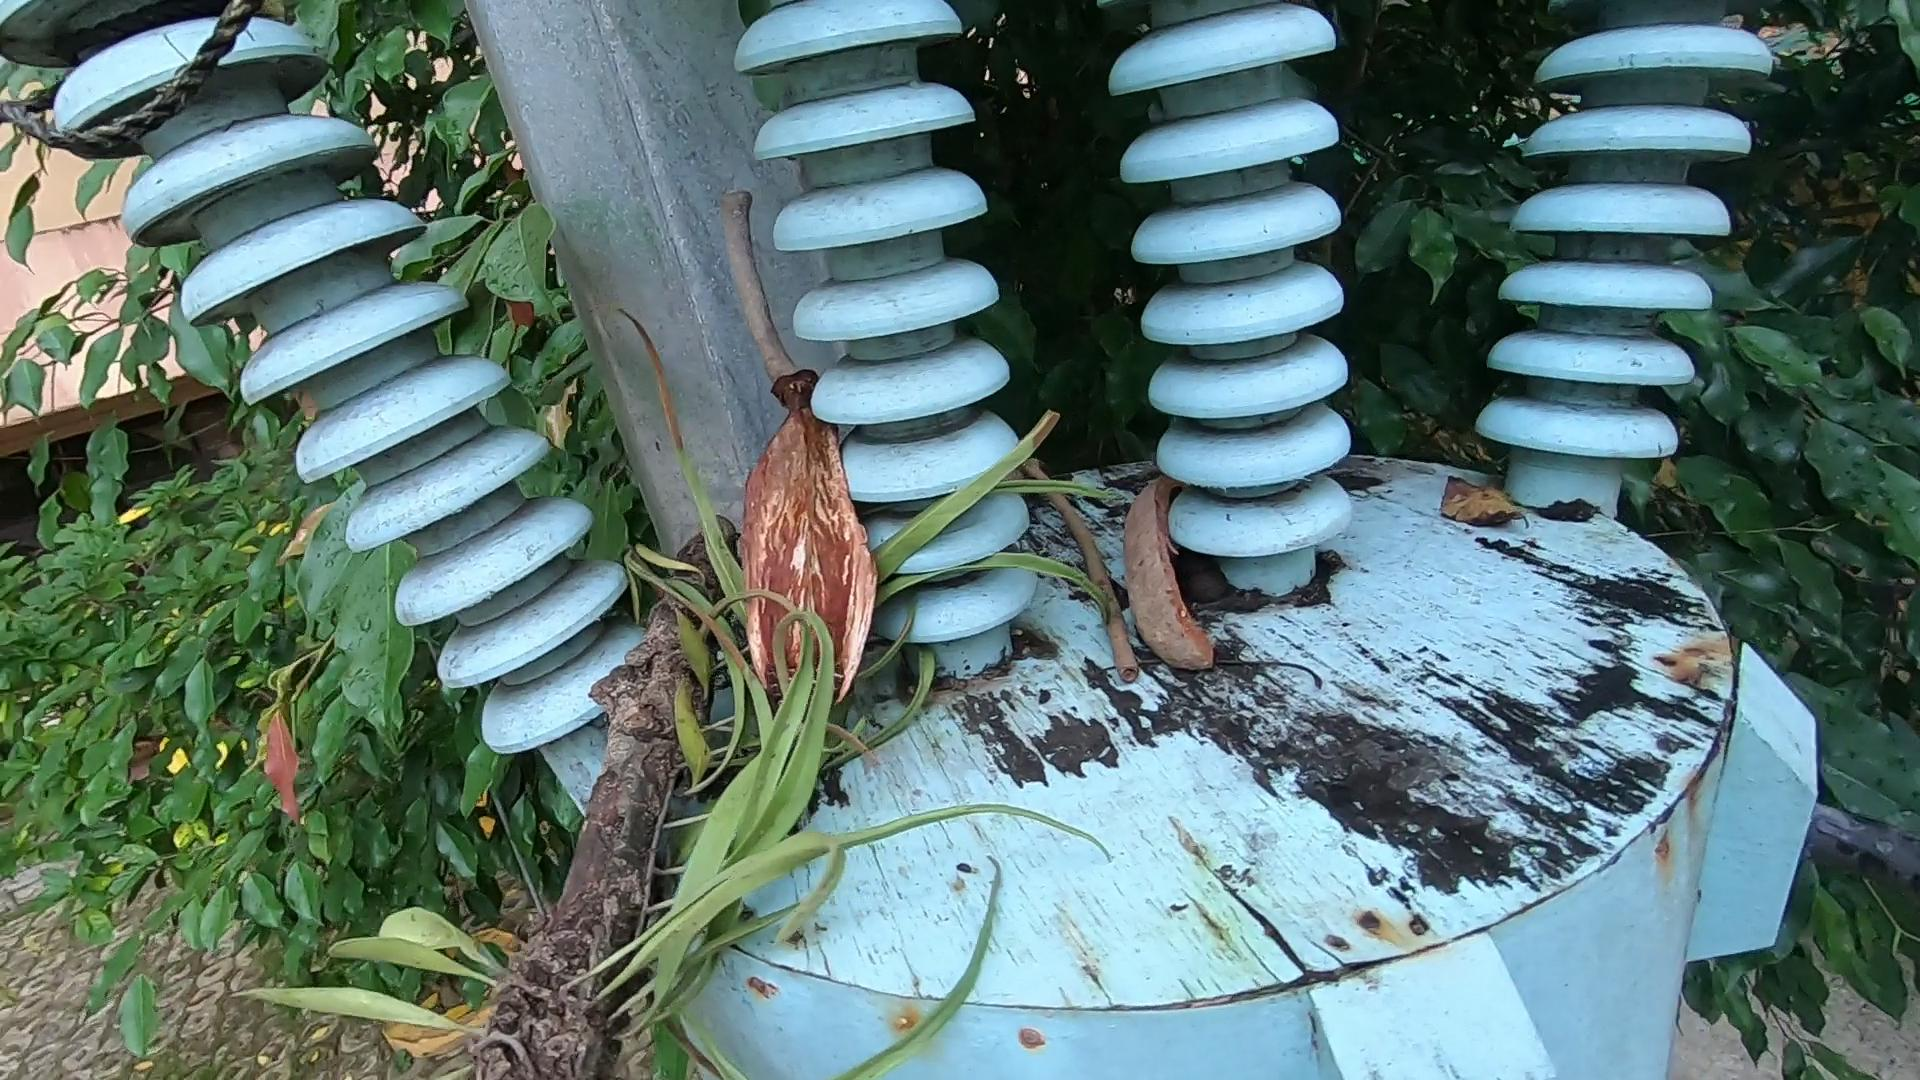branch with leaves: (393, 480, 971, 1080)
leaf: (1418, 458, 1543, 578)
mahogany fruit: (729, 409, 878, 698), (1114, 471, 1283, 717)
tree branch: (1000, 448, 1178, 723), (683, 179, 841, 394)
